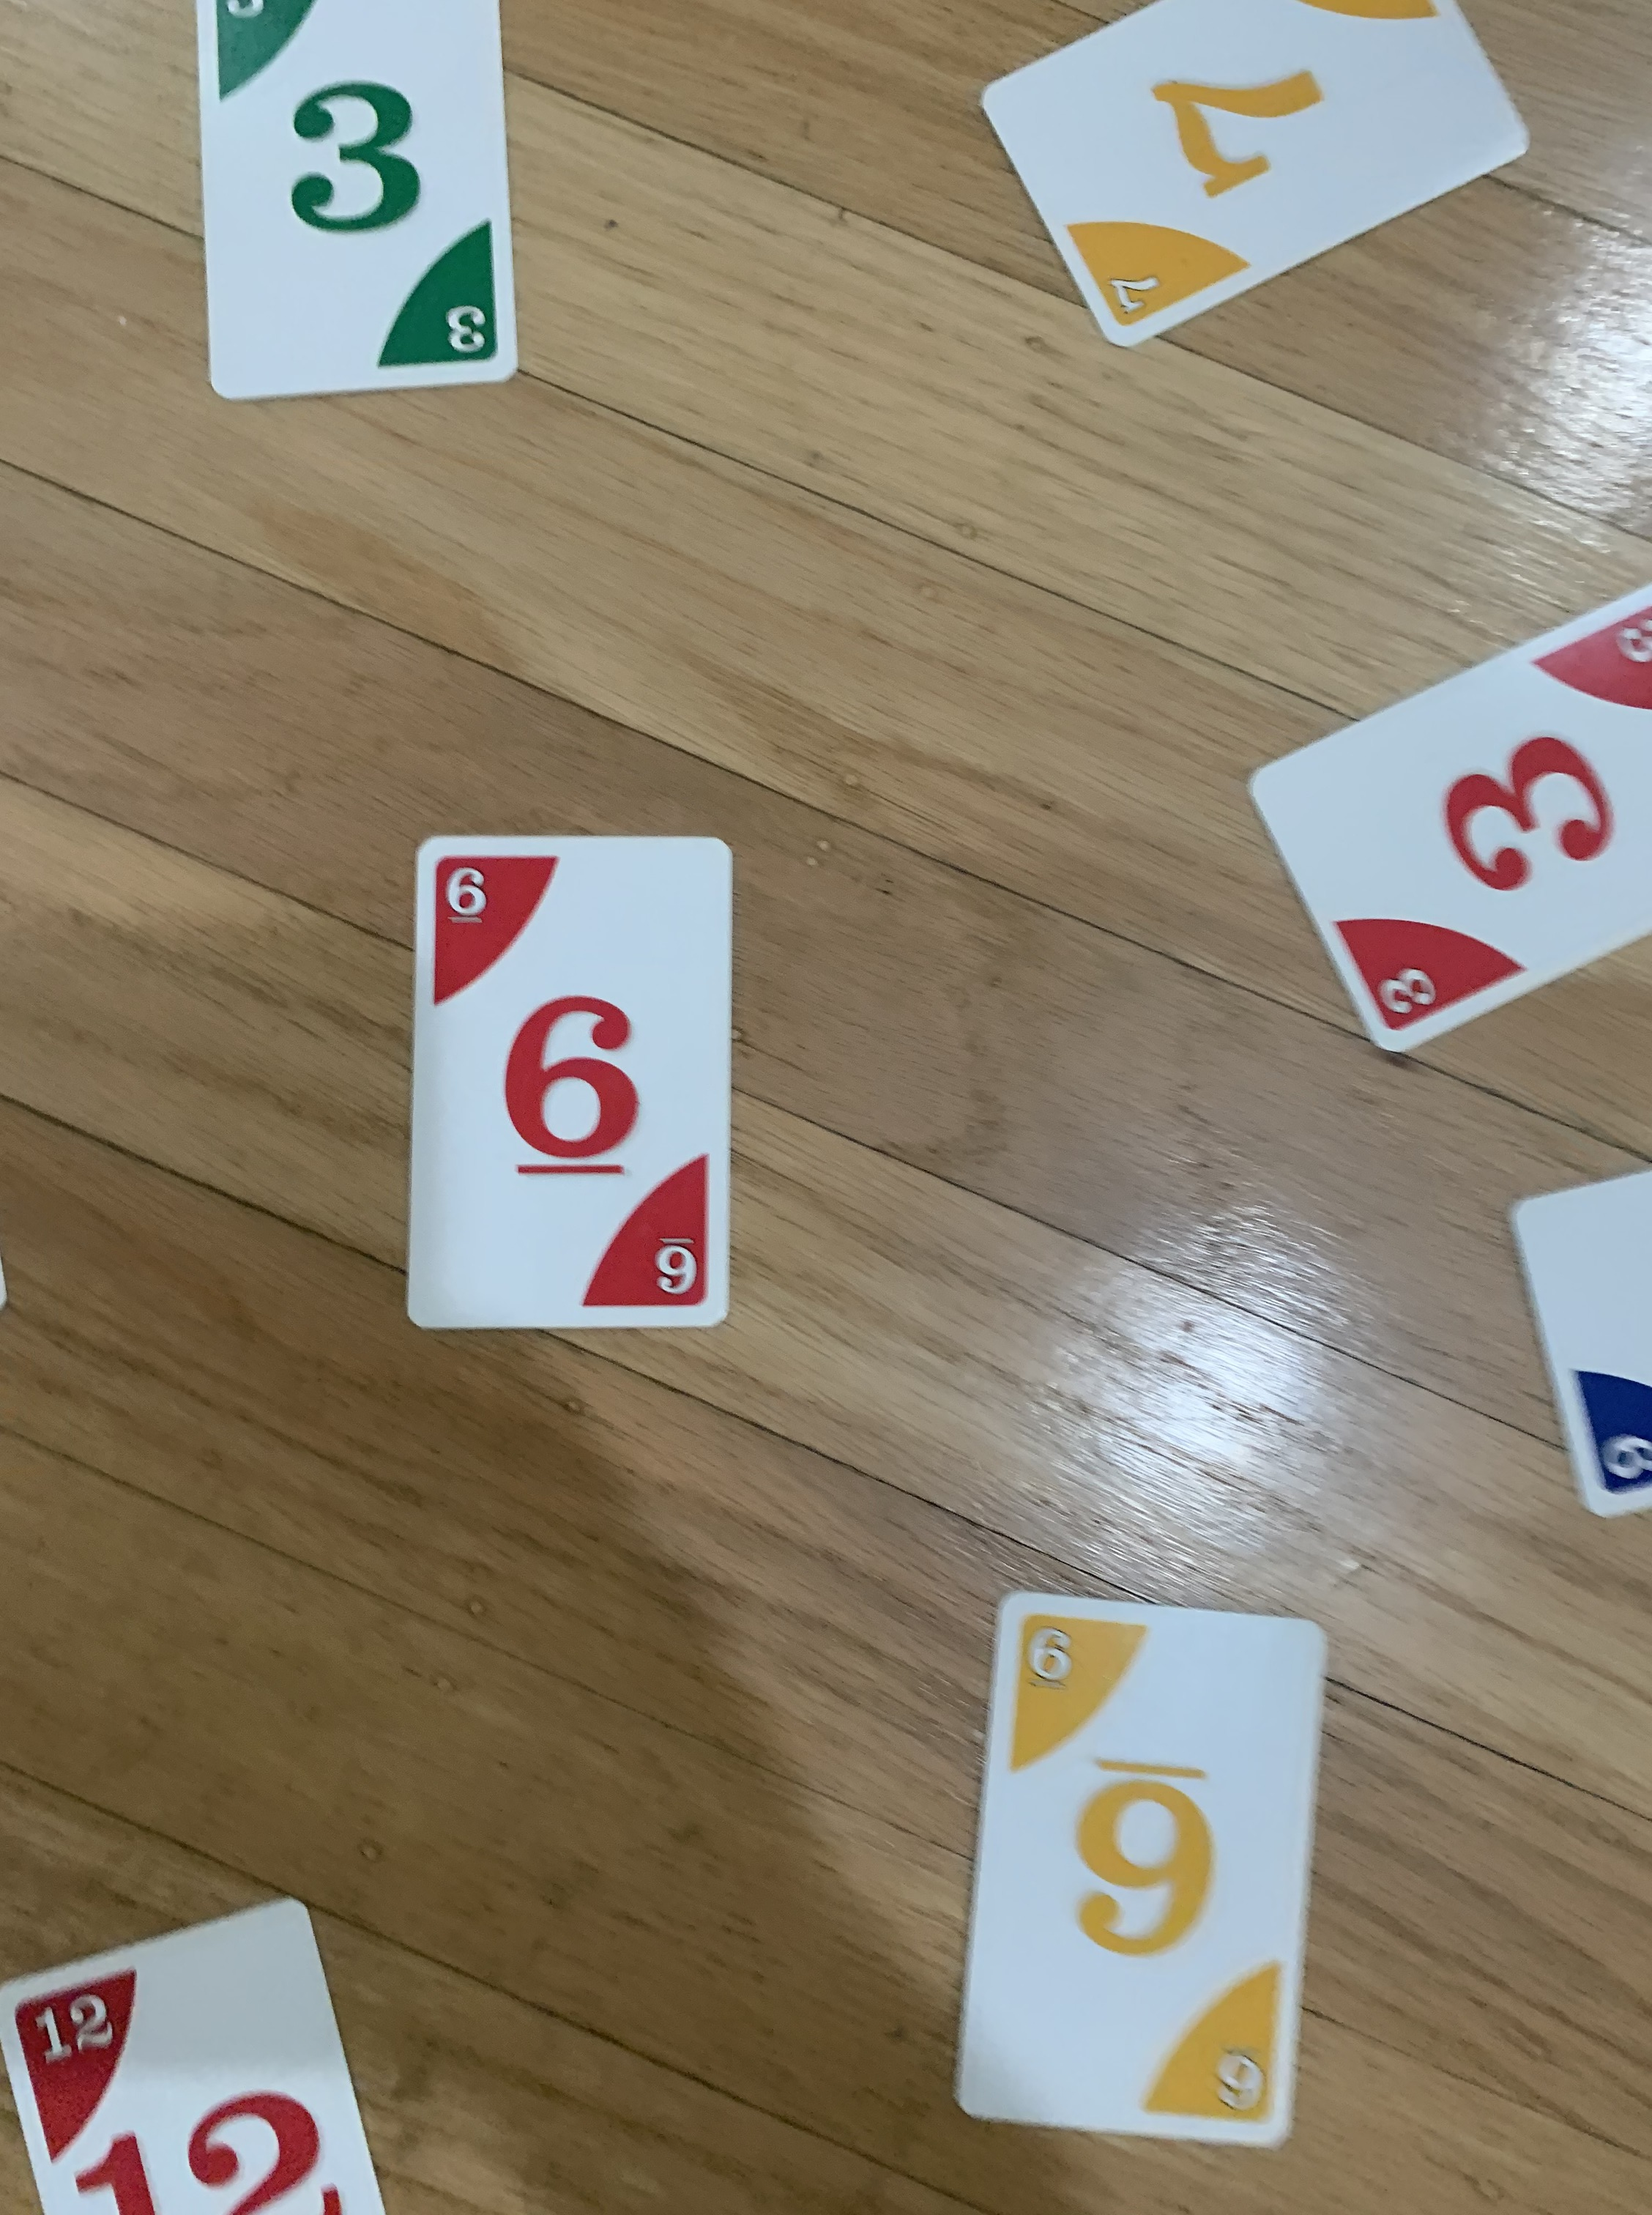nine: (937, 1573, 1334, 2163)
seven: (986, 0, 1541, 359)
six: (399, 826, 753, 1340)
three: (1241, 533, 1652, 963), (182, 0, 548, 418)
